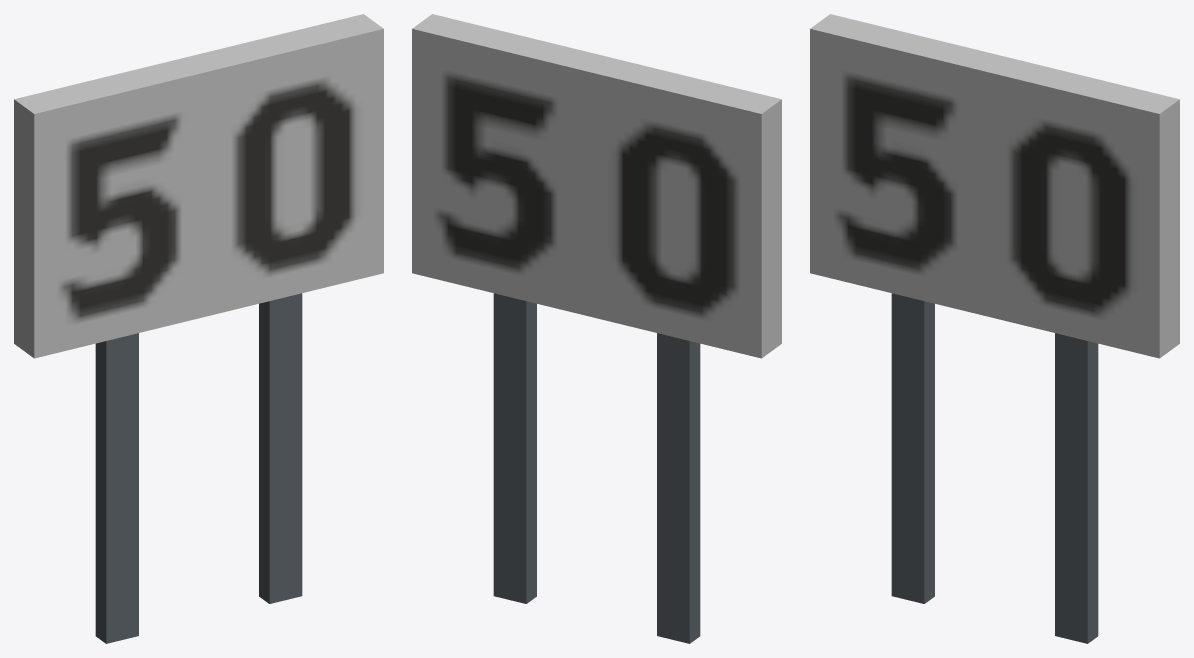
File: SM_Prop_Sign_Distance_05.fbx
3 renders of one model, left to right at view 1: azimuth 30°, elevation 25°; view 2: azimuth 150°, elevation 25°; view 3: azimuth 330°, elevation 25°, orthographic.
Visible parts, largest first — view 1: SM_Prop_Sign_Distance_05; view 2: SM_Prop_Sign_Distance_05; view 3: SM_Prop_Sign_Distance_05.
Part boxes in pixels (x1,y1,x2,y2): SM_Prop_Sign_Distance_05: (14, 14, 383, 643); SM_Prop_Sign_Distance_05: (412, 14, 781, 643); SM_Prop_Sign_Distance_05: (810, 14, 1179, 643).
Bounding box in the file's own units: 68.22 × 103 × 6.84.
